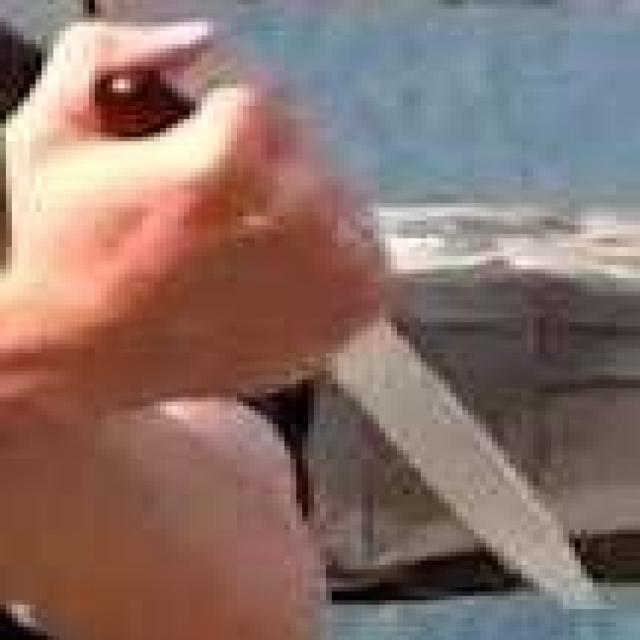Knife: (81, 58, 625, 628)
